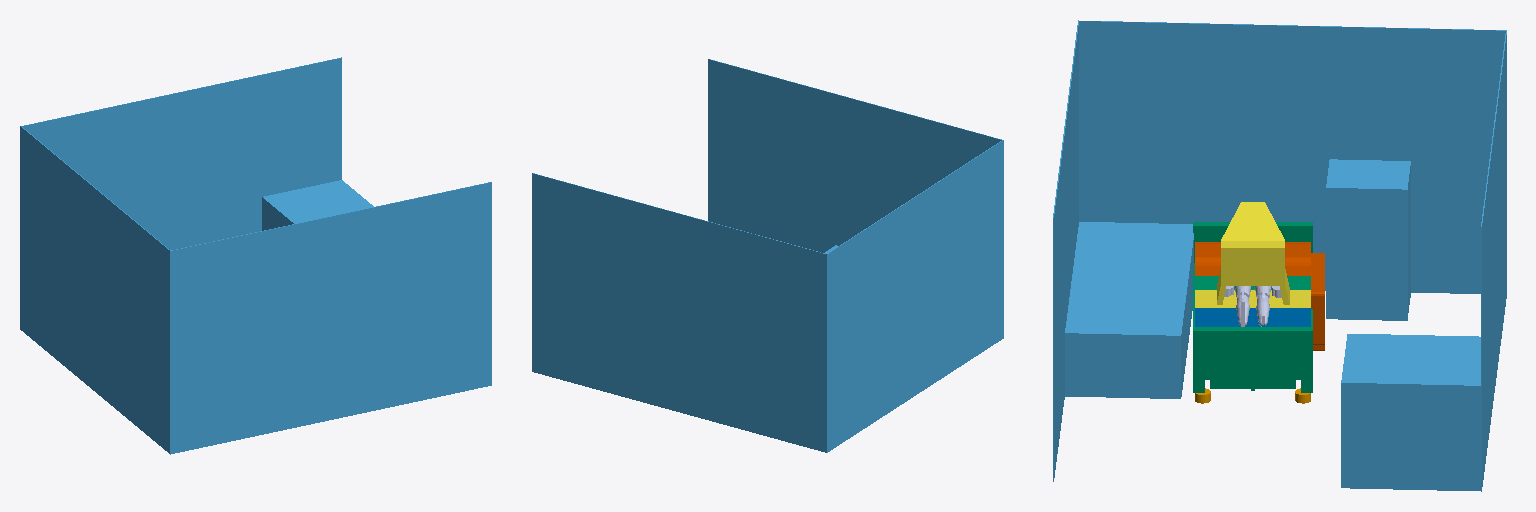
--- Render facts (derived) ---
3 views of the same robot in one strip: view 1: azimuth 30°, elevation 25°; view 2: azimuth 150°, elevation 25°; view 3: azimuth 270°, elevation 25° (orthographic).
Robot: bed_and_environment_henry_tray — 33 links, 32 joints (25 revolute, 4 prismatic, 3 fixed); root link autobed/base_link; default pose: all joints at 0.
Visible links, largest first — view 1: autobed/wall_link; view 2: autobed/wall_link; view 3: autobed/wall_link, autobed/bed_frame_link, autobed/leg_rest_upper, autobed/head_rest_link, autobed/leg_rest_lower.
Link boxes in pixels (bbox=[...]): autobed/wall_link: bbox=[20, 57, 491, 454]; autobed/wall_link: bbox=[532, 59, 1003, 452]; autobed/wall_link: bbox=[1053, 20, 1506, 491]; autobed/bed_frame_link: bbox=[1193, 222, 1312, 392]; autobed/leg_rest_upper: bbox=[1195, 202, 1310, 307]; autobed/head_rest_link: bbox=[1195, 242, 1324, 350]; autobed/leg_rest_lower: bbox=[1195, 308, 1310, 326].
Bounding box of the posed robot: 4.2 × 3.9 × 2.68 m (x, y, z).
21 mesh visuals loaded from 23 distinct referenced files (21 binary STL); not drawn: 2 (reference not matched to a file when rendering).

URDF robot description (bed_and_environment_henry_tray):
<?xml version="1.0"?>
<robot
  name="bed_and_environment_henry_tray">
  <link
   name="autobed/base_link">
    <inertial>
      <origin
        xyz="1.07 3.94840580504828E-16 0.0837923121940762"
        rpy="0 0 0" />
      <mass
        value="6.1860172808288" />
      <inertia
        ixx="1.21978721906848"
        ixy="2.22044604925031E-15"
        ixz="-1.78284289885571E-15"
        iyy="7.15036992783298"
        iyz="-7.76907347784197E-16"
        izz="8.24641740321532" />
    </inertial>
    <visual>
      <origin
        xyz="0 0 0"
        rpy="0 0 0" />
      <geometry>
        <mesh
          filename="package://hrl_base_selection/urdf/bed_and_environment_henry_tray/meshes/base_link_v2.STL" />
      </geometry>
    </visual>
    <collision>
      <origin
        xyz="0 0 0"
        rpy="0 0 0" />
      <geometry>
        <mesh
          filename="package://hrl_base_selection/urdf/bed_and_environment_henry_tray/meshes/base_link_v2.STL" />
      </geometry>
    </collision>
  </link>
    <link
   name="autobed/wall_link">
    <inertial>
      <origin
        xyz="1.85973617610096 0.322876413955559 0.506156564666783"
        rpy="0 0 0" />
      <mass
        value="3480.34879229199" />
      <inertia
        ixx="6193.4907032472"
        ixy="3253.06972401852"
        ixz="-11.5632809249146"
        iyy="7114.12294656335"
        iyz="386.100445501856"
        izz="12101.3286461396" />
    </inertial>
    <visual>
      <origin
        xyz="0 0 0"
        rpy="0 0 0" />
      <geometry>
        <mesh
          filename="package://hrl_base_selection/urdf/bed_and_environment_henry_tray/meshes/wall_link_v2.STL" />
      </geometry>
    </visual>
    <collision>
      <origin
        xyz="0 0 0"
        rpy="0 0 0" />
      <geometry>
        <mesh
          filename="package://hrl_base_selection/urdf/bed_and_environment_henry_tray/meshes/wall_link_v2.STL" />
      </geometry>
    </collision>
  </link>
  <joint
   name="autobed/origin_wall_joint"
    type="fixed">
    <origin
      xyz="-0.12155 -0.0043316 0"
      rpy="0 0 -0.053897" />
    <parent
      link="autobed/base_link" />
    <child
      link="autobed/wall_link" />
    <axis
      xyz="0 0 0" />
  </joint>
  <link
   name="autobed/bed_frame_link">
    <inertial>
      <origin
        xyz="1.20574977089702 -0.00197319632794563 0.010463658046454"
        rpy="0 0 0" />
      <mass
        value="298.525793737685" />
      <inertia
        ixx="25.3079805393988"
        ixy="0.124705215046845"
        ixz="-6.18752707469867"
        iyy="161.196265779885"
        iyz="0.0978345240222597"
        izz="178.196491872743" />
    </inertial>
    <visual>
      <origin
        xyz="0 0 0"
        rpy="0 0 0" />
      <geometry>
        <mesh
          filename="package://hrl_base_selection/urdf/bed_and_environment_henry_tray/meshes/bed_frame_link_v2.STL" />
      </geometry>
    </visual>
    <collision>
      <origin
        xyz="0 0 0"
        rpy="0 0 0" />
      <geometry>
        <mesh
          filename="package://hrl_base_selection/urdf/bed_and_environment_henry_tray/meshes/bed_frame_link_v2.STL" />
      </geometry>
    </collision>
  </link>
  <joint
   name="autobed/tele_legs_joint"
    type="prismatic">
    <origin
      xyz="-0.0400000000000005 0 0.320000000000001"
      rpy="0 0 0" />
    <parent
      link="autobed/base_link" />
    <child
      link="autobed/bed_frame_link" />
    <axis
      xyz="0 0 1" />
    <limit
      lower="-1"
      upper="1"
      effort="0"
      velocity="0" />
  </joint>
  <link
   name="autobed/leg_rest_upper">
    <inertial>
      <origin
        xyz="0.184999999999998 0.10500000000001 6.79804630482359E-16"
        rpy="0 0 0" />
      <mass
        value="71.0955000000001" />
      <inertia
        ixx="5.22152012812501"
        ixy="-3.21389401302034E-17"
        ixz="-3.22023131917487E-17"
        iyy="5.77132532812501"
        iyz="-2.87322532068486E-15"
        izz="1.072357125" />
    </inertial>
    <visual>
      <origin
        xyz="0 0 0"
        rpy="0 0 0" />
      <geometry>
        <mesh
          filename="package://hrl_base_selection/urdf/bed_and_environment_henry_tray/meshes/leg_rest_upper_v2.STL" />
      </geometry>
    </visual>
    <collision>
      <origin
        xyz="0 0 0"
        rpy="0 0 0" />
      <geometry>
        <mesh
          filename="package://hrl_base_selection/urdf/bed_and_environment_henry_tray/meshes/leg_rest_upper_v2.STL" />
      </geometry>
    </collision>
  </link>
  <joint
   name="autobed/leg_rest_upper_hinge"
    type="revolute">
    <origin
      xyz="1.075 0 0"
      rpy="1.5708 -1.8438E-16 7.6543E-16" />
    <parent
      link="autobed/bed_frame_link" />
    <child
      link="autobed/leg_rest_upper" />
    <axis
      xyz="0 0 1" />
    <limit
      lower="-2"
      upper="2"
      effort="0"
      velocity="0" />
  </joint>
  <link
   name="autobed/leg_rest_lower">
    <inertial>
      <origin
        xyz="0.325000000000004 0.104999999999987 -1.38760699713425E-16"
        rpy="0 0 0" />
      <mass
        value="124.8975" />
      <inertia
        ixx="9.172940765625"
        ixy="-4.25925024767052E-17"
        ixz="-8.25969319809873E-16"
        iyy="13.111375265625"
        iyz="2.10674154540826E-16"
        izz="4.856431125" />
    </inertial>
    <visual>
      <origin
        xyz="0 0 0"
        rpy="0 0 0" />
      <geometry>
        <mesh
          filename="package://hrl_base_selection/urdf/bed_and_environment_henry_tray/meshes/leg_rest_lower_v2.STL" />
      </geometry>
    </visual>
    <collision>
      <origin
        xyz="0 0 0"
        rpy="0 0 0" />
      <geometry>
        <mesh
          filename="package://hrl_base_selection/urdf/bed_and_environment_henry_tray/meshes/leg_rest_lower_v2.STL" />
      </geometry>
    </collision>
  </link>
  <joint
   name="autobed/leg_rest_lower_hinge"
    type="revolute">
    <origin
      xyz="0.37 0 0"
      rpy="8.4655E-16 -2.4744E-16 -1.8316E-16" />
    <parent
      link="autobed/leg_rest_upper" />
    <child
      link="autobed/leg_rest_lower" />
    <axis
      xyz="0 0 -1" />
    <limit
      lower="-2"
      upper="2"
      effort="0"
      velocity="0" />
  </joint>
  <link
   name="autobed/head_rest_link">
    <inertial>
      <origin
        xyz="0.338540021639504 -0.102807900235519 0.0331726512276706"
        rpy="0 0 0" />
      <mass
        value="158.265573279578" />
      <inertia
        ixx="13.8116841883572"
        ixy="0.366851813056848"
        ixz="-0.640983438566653"
        iyy="18.5647228773414"
        iyz="-0.857921499431992"
        izz="7.19318513198363" />
    </inertial>
    <visual>
      <origin
        xyz="0 0 0"
        rpy="0 0 0" />
      <geometry>
        <mesh
          filename="package://hrl_base_selection/urdf/bed_and_environment_henry_tray/meshes/head_rest_link_v2.STL" />
      </geometry>
    </visual>
    <collision>
      <origin
        xyz="0 0 0"
        rpy="0 0 0" />
      <geometry>
        <mesh
          filename="package://hrl_base_selection/urdf/bed_and_environment_henry_tray/meshes/head_rest_link_v2.STL" />
      </geometry>
    </collision>
  </link>
  <joint
   name="autobed/head_rest_hinge"
    type="revolute">
    <origin
      xyz="0.795 0 0.21"
      rpy="1.5708 0 -3.1416" />
    <parent
      link="autobed/bed_frame_link" />
    <child
      link="autobed/head_rest_link" />
    <axis
      xyz="0 0 1" />
    <limit
      lower="-2"
      upper="2"
      effort="0"
      velocity="0" />
  </joint>
  <link
    name="autobed/neck_rotated_to_worldframe_link">
  </link>
  <joint
    name="autobed/headrest_bed_to_worldframe_joint"
    type="revolute">
    <origin
      xyz="0.25949 0.1 0"
      rpy="0. 0. 0." />
    <!--<origin-->
      <!--xyz="0.40949 0.05 0"-->
      <!--rpy="0. 0. 0." />-->
    <parent
      link="autobed/head_rest_link" />
    <child
      link="autobed/neck_rotated_to_worldframe_link" />
    <axis
      xyz="0 0 1" />
    <limit
      lower="-2"
      upper="2"
      effort="0"
      velocity="0" />
  </joint>
  <link
    name="autobed/neck_updown_worldframe_translation_link">
  </link>
  <joint
    name="autobed/bed_neck_worldframe_updown_joint"
    type="prismatic">
    <origin
      xyz="0.0 0.0 0"
      rpy="0.0 0.0 0.0" />
    <parent
      link="autobed/neck_rotated_to_worldframe_link" />
    <child
      link="autobed/neck_updown_worldframe_translation_link" />
    <axis
      xyz="-1 0 0" />
    <limit
      lower="-2"
      upper="2"
      effort="0"
      velocity="0" />
  </joint>
  <link
    name="autobed/neck_rotated_to_bedframe_link">
  </link>
  <joint
    name="autobed/bed_neck_to_bedframe_joint"
    type="revolute">
    <origin
      xyz="0.0 0.0 0"
      rpy="0. 0. 0." />
    <parent
      link="autobed/neck_updown_worldframe_translation_link" />
    <child
      link="autobed/neck_rotated_to_bedframe_link" />
    <axis
      xyz="0 0 1" />
    <limit
      lower="-2"
      upper="2"
      effort="0"
      velocity="0" />
  </joint>
  <link
    name="autobed/neck_updown_bedframe_translation_link">
  </link>
  <joint
    name="autobed/bed_neck_base_updown_bedframe_joint"
    type="prismatic">
    <origin
      xyz="0.0 0.0 0"
      rpy="0. 0. 0." />
    <parent
      link="autobed/neck_rotated_to_bedframe_link" />
    <child
      link="autobed/neck_updown_bedframe_translation_link" />
    <axis
      xyz="-1 0 0" />
    <limit
      lower="-2"
      upper="2"
      effort="0"
      velocity="0" />
  </joint>
  <link
    name="autobed/neck_base_link">
  </link>
  <joint
    name="autobed/bed_neck_base_leftright_joint"
    type="prismatic">
    <origin
      xyz="0 0 0"
      rpy="0 3.14159 0" />
    <parent
      link="autobed/neck_updown_bedframe_translation_link" />
    <child
      link="autobed/neck_base_link" />
    <axis
      xyz="0 0 -1" />
    <limit
      lower="-2"
      upper="2"
      effort="0"
      velocity="0" />
  </joint>
  <link
    name="autobed/neck_twist_link">
  </link>
  <joint
    name="autobed/neck_twist_joint"
    type="revolute">
    <origin
      xyz="0.0 0.0 0"
      rpy="0. 0. 0." />
    <parent
      link="autobed/neck_base_link" />
    <child
      link="autobed/neck_twist_link" />
    <axis
      xyz="1 0 0" />
    <limit
      lower="-2"
      upper="2"
      effort="0"
      velocity="0" />
  </joint>
  <link
    name="autobed/neck_tilt_link">
  </link>
  <joint
    name="autobed/neck_tilt_joint"
    type="revolute">
    <origin
      xyz="0.0 0.0 0"
      rpy="0. 0. 0." />
    <parent
      link="autobed/neck_twist_link" />
    <child
      link="autobed/neck_tilt_link" />
    <axis
      xyz="0 0 -1" />
    <limit
      lower="-2"
      upper="2"
      effort="0"
      velocity="0" />
  </joint>
  <link
    name="autobed/neck_link">
    <visual>
      <origin
        xyz="0 0 0"
        rpy="0 0 0" />
      <geometry>
        <mesh
          filename="package://hrl_base_selection/urdf/bed_and_environment_henry_tray/meshes/neck_link.STL" />
      </geometry>
      <material
        name="">
        <color
          rgba="0.792156862745098 0.819607843137255 0.933333333333333 1" />
      </material>
    </visual>
    <collision>
      <origin
        xyz="0 0 0"
        rpy="0 0 0" />
      <geometry>
        <mesh
          filename="package://hrl_base_selection/urdf/bed_and_environment_henry_tray/meshes/neck_link.STL" />
      </geometry>
    </collision>
  </link>
  <joint
    name="autobed/neck_to_neck_top_joint"
    type="fixed">
    <origin
      xyz="-0.07239 0 0"
      rpy="0 0 0" />
    <parent
      link="autobed/neck_tilt_link" />
    <child
      link="autobed/neck_link" />
  </joint>
  <link
    name="autobed/neck_top_rotated_link">
  </link>
  <joint
    name="autobed/neck_rotation_fixed_joint"
    type="fixed">
    <origin
      xyz="0 0 0"
      rpy="-1.570796 0 1.570796" />
    <parent
      link="autobed/neck_link" />
    <child
      link="autobed/neck_top_rotated_link" />
    <axis
      xyz="0 0 1" />
    <limit
      lower="-2"
      upper="2"
      effort="0"
      velocity="0" />
  </joint>
  <link
    name="autobed/head_roty_link">
  </link>
  <joint
    name="autobed/neck_head_roty_joint"
    type="revolute">
    <origin
      xyz="0.0154 0 0.07779"
      rpy="0 0 0" />
    <parent
      link="autobed/neck_top_rotated_link" />
    <child
      link="autobed/head_roty_link" />
    <axis
      xyz="0 1 0" />
    <limit
      lower="-2"
      upper="2"
      effort="0"
      velocity="0" />
  </joint>
  <link
    name="autobed/head_rotz_link">
  </link>
  <joint
    name="autobed/neck_head_rotz_joint"
    type="revolute">
    <origin
      xyz="0 0 0"
      rpy="0 0 0" />
    <parent
      link="autobed/head_roty_link" />
    <child
      link="autobed/head_rotz_link" />
    <axis
      xyz="0 0 1" />
    <limit
      lower="-2"
      upper="2"
      effort="0"
      velocity="0" />
  </joint>

  <link
    name="autobed/head_link">
    <visual>
      <origin
        xyz="0 0 0"
        rpy="0 0 0" />
      <geometry>
        <mesh
          filename="package://hrl_base_selection/urdf/bed_and_environment_henry_tray/meshes/head_link.STL" />
      </geometry>
      <material
        name="">
        <color
          rgba="0.792156862745098 0.819607843137255 0.933333333333333 1" />
      </material>
    </visual>
    <collision>
      <origin
        xyz="0 0 0"
        rpy="0 0 0" />
      <geometry>
        <mesh
          filename="package://hrl_base_selection/urdf/bed_and_environment_henry_tray/meshes/head_link.STL" />
      </geometry>
    </collision>
  </link>
  <joint
    name="autobed/neck_head_rotx_joint"
    type="revolute">
    <origin
      xyz="0 0 0"
      rpy="0 0 0" />
    <parent
      link="autobed/head_rotz_link" />
    <child
      link="autobed/head_link" />
    <axis
      xyz="1 0 0" />
    <limit
      lower="-2"
      upper="2"
      effort="0"
      velocity="0" />
  </joint>
  <link
    name="autobed/upper_body_link">
    <visual>
      <origin
        xyz="0 0 0"
        rpy="0 0 0" />
      <geometry>
        <mesh
          filename="package://hrl_base_selection/urdf/bed_and_environment_henry_tray/meshes/upper_body_link.STL" />
      </geometry>
      <material
        name="">
        <color
          rgba="0.792156862745098 0.819607843137255 0.933333333333333 1" />
      </material>
    </visual>
    <collision>
      <origin
        xyz="0 0 0"
        rpy="0 0 0" />
      <geometry>
        <mesh
          filename="package://hrl_base_selection/urdf/bed_and_environment_henry_tray/meshes/upper_body_link.STL" />
      </geometry>
    </collision>
  </link>
  <joint
    name="autobed/neck_body_joint"
    type="revolute">
    <origin
      xyz="0.00 0 0"
      rpy="0 0 0" />
    <parent
      link="autobed/neck_base_link" />
    <child
      link="autobed/upper_body_link" />
    <axis
      xyz="0 0 -1" />
    <limit
      lower="-2"
      upper="2"
      effort="0"
      velocity="0" />
  </joint>
  <link
    name="autobed/mid_body_link">
    <visual>
      <origin
        xyz="0 0 0"
        rpy="0 0 0" />
      <geometry>
        <mesh
          filename="package://hrl_base_selection/urdf/bed_and_environment_henry_tray/meshes/mid_body_link.STL" />
      </geometry>
      <material
        name="">
        <color
          rgba="0.792156862745098 0.819607843137255 0.933333333333333 1" />
      </material>
    </visual>
    <collision>
      <origin
        xyz="0 0 0"
        rpy="0 0 0" />
      <geometry>
        <mesh
          filename="package://hrl_base_selection/urdf/bed_and_environment_henry_tray/meshes/mid_body_link.STL" />
      </geometry>
    </collision>
  </link>
  <joint
    name="autobed/upper_mid_body_joint"
    type="revolute">
    <origin
      xyz="0.35052 0 0"
      rpy="0 0 0" />
    <parent
      link="autobed/upper_body_link" />
    <child
      link="autobed/mid_body_link" />
    <axis
      xyz="0 0 1" />
    <limit
      lower="-2"
      upper="2"
      effort="0"
      velocity="0" />
  </joint>
  <link
    name="autobed/lower_body_link">
    <visual>
      <origin
        xyz="0 0 0"
        rpy="0 0 0" />
      <geometry>
        <mesh
          filename="package://hrl_base_selection/urdf/bed_and_environment_henry_tray/meshes/lower_body_link.STL" />
      </geometry>
      <material
        name="">
        <color
          rgba="0.792156862745098 0.819607843137255 0.933333333333333 1" />
      </material>
    </visual>
    <collision>
      <origin
        xyz="0 0 0"
        rpy="0 0 0" />
      <geometry>
        <mesh
          filename="package://hrl_base_selection/urdf/bed_and_environment_henry_tray/meshes/lower_body_link.STL" />
      </geometry>
    </collision>
  </link>
  <joint
    name="autobed/mid_lower_body_joint"
    type="revolute">
    <origin
      xyz="0.15113 0 0"
      rpy="0 0 0" />
    <parent
      link="autobed/mid_body_link" />
    <child
      link="autobed/lower_body_link" />
    <axis
      xyz="0 0 1" />
    <limit
      lower="-2"
      upper="2"
      effort="0"
      velocity="0" />
  </joint>
  <link
    name="autobed/quad_left_link">
    <visual>
      <origin
        xyz="0 0 0"
        rpy="0 0 0" />
      <geometry>
        <mesh
          filename="package://hrl_base_selection/urdf/bed_and_environment_henry_tray/meshes/quad_left_link.STL" />
      </geometry>
      <material
        name="">
        <color
          rgba="0.792156862745098 0.819607843137255 0.933333333333333 1" />
      </material>
    </visual>
    <collision>
      <origin
        xyz="0 0 0"
        rpy="0 0 0" />
      <geometry>
        <mesh
          filename="package://hrl_base_selection/urdf/bed_and_environment_henry_tray/meshes/quad_left_link.STL" />
      </geometry>
    </collision>
  </link>
  <joint
    name="autobed/body_quad_left_joint"
    type="revolute">
    <origin
      xyz="0.05207 0 -0.08636"
      rpy="0 0 -.25" />
    <parent
      link="autobed/lower_body_link" />
    <child
      link="autobed/quad_left_link" />
    <axis
      xyz="0 0 1" />
    <limit
      lower="-3."
      upper="3."
      effort="0"
      velocity="0" />
  </joint>
  <link
    name="autobed/calf_left_link">
    <visual>
      <origin
        xyz="0 0 0"
        rpy="0 0 0" />
      <geometry>
        <mesh
          filename="package://hrl_base_selection/urdf/bed_and_environment_henry_tray/meshes/calf_left_link.STL" />
      </geometry>
      <material
        name="">
        <color
          rgba="0.792156862745098 0.819607843137255 0.933333333333333 1" />
      </material>
    </visual>
    <collision>
      <origin
        xyz="0 0 0"
        rpy="0 0 0" />
      <geometry>
        <mesh
          filename="package://hrl_base_selection/urdf/bed_and_environment_henry_tray/meshes/calf_left_link.STL" />
      </geometry>
    </collision>
  </link>
  <joint
    name="autobed/quad_calf_left_joint"
    type="revolute">
    <origin
      xyz="0.41218 0.11044 0"
      rpy="3.14159 0 3.43" />
    <parent
      link="autobed/quad_left_link" />
    <child
      link="autobed/calf_left_link" />
    <axis
      xyz="0 0 1" />
    <limit
      lower="-3."
      upper="3."
      effort="0"
      velocity="0" />
  </joint>
  <link
    name="autobed/foot_left_link">
    <visual>
      <origin
        xyz="0 0 0"
        rpy="0 0 0" />
      <geometry>
        <mesh
          filename="package://hrl_base_selection/urdf/bed_and_environment_henry_tray/meshes/foot_left_link.STL" />
      </geometry>
      <material
        name="">
        <color
          rgba="0.792156862745098 0.819607843137255 0.933333333333333 1" />
      </material>
    </visual>
    <collision>
      <origin
        xyz="0 0 0"
        rpy="0 0 0" />
      <geometry>
        <mesh
          filename="package://hrl_base_selection/urdf/bed_and_environment_henry_tray/meshes/foot_left_link.STL" />
      </geometry>
    </collision>
  </link>
  <joint
    name="autobed/calf_foot_left_joint"
    type="revolute">
    <origin
      xyz="-0.41279 -0.03188 0"
      rpy="0 0 0.09" />
    <parent
      link="autobed/calf_left_link" />
    <child
      link="autobed/foot_left_link" />
    <axis
      xyz="0 0 1" />
    <limit
      lower="-3."
      upper="3."
      effort="0"
      velocity="0" />
  </joint>
  <link
    name="autobed/quad_right_link">
    <visual>
      <origin
        xyz="0 0 0"
        rpy="0 0 0" />
      <geometry>
        <mesh
          filename="package://hrl_base_selection/urdf/bed_and_environment_henry_tray/meshes/quad_right_link.STL" />
      </geometry>
      <material
        name="">
        <color
          rgba="0.792156862745098 0.819607843137255 0.933333333333333 1" />
      </material>
    </visual>
    <collision>
      <origin
        xyz="0 0 0"
        rpy="0 0 0" />
      <geometry>
        <mesh
          filename="package://hrl_base_selection/urdf/bed_and_environment_henry_tray/meshes/quad_right_link.STL" />
      </geometry>
    </collision>
  </link>
  <joint
    name="autobed/body_quad_right_joint"
    type="revolute">
    <origin
      xyz="0.05207 0 0.08636"
      rpy="0 0 -.25" />
    <parent
      link="autobed/lower_body_link" />
    <child
      link="autobed/quad_right_link" />
    <axis
      xyz="0 0 1" />
    <limit
      lower="-3"
      upper="3"
      effort="0"
      velocity="0" />
  </joint>
  <link
    name="autobed/calf_right_link">
    <visual>
      <origin
        xyz="0 0 0"
        rpy="0 0 0" />
      <geometry>
        <mesh
          filename="package://hrl_base_selection/urdf/bed_and_environment_henry_tray/meshes/calf_right_link.STL" />
      </geometry>
      <material
        name="">
        <color
          rgba="0.792156862745098 0.819607843137255 0.933333333333333 1" />
      </material>
    </visual>
    <collision>
      <origin
        xyz="0 0 0"
        rpy="0 0 0" />
      <geometry>
        <mesh
          filename="package://hrl_base_selection/urdf/bed_and_environment_henry_tray/meshes/calf_right_link.STL" />
      </geometry>
    </collision>
  </link>
  <joint
    name="autobed/quad_calf_right_joint"
    type="revolute">
    <origin
      xyz="0.41218 0.11044 0"
      rpy="3.14159 0 3.43" />
    <parent
      link="autobed/quad_right_link" />
    <child
      link="autobed/calf_right_link" />
    <axis
      xyz="0 0 1" />
    <limit
      lower="-3"
      upper="3"
      effort="0"
      velocity="0" />
  </joint>
  <link
    name="autobed/foot_right_link">
    <visual>
      <origin
        xyz="0 0 0"
        rpy="0 0 0" />
      <geometry>
        <mesh
          filename="package://hrl_base_selection/urdf/bed_and_environment_henry_tray/meshes/foot_right_link.STL" />
      </geometry>
      <material
        name="">
        <color
          rgba="0.792156862745098 0.819607843137255 0.933333333333333 1" />
      </material>
    </visual>
    <collision>
      <origin
        xyz="0 0 0"
        rpy="0 0 0" />
      <geometry>
        <mesh
          filename="package://hrl_base_selection/urdf/bed_and_environment_henry_tray/meshes/foot_right_link.STL" />
      </geometry>
    </collision>
  </link>
  <joint
    name="autobed/calf_foot_right_joint"
    type="revolute">
    <origin
      xyz="-0.41279 -0.03188 0"
      rpy="0 0 0.09" />
    <parent
      link="autobed/calf_right_link" />
    <child
      link="autobed/foot_right_link" />
    <axis
      xyz="0 0 1" />
    <limit
      lower="-3"
      upper="3"
      effort="0"
      velocity="0" />
  </joint>
  <link
    name="autobed/arm_left_link">
    <visual>
      <origin
        xyz="0 0 0"
        rpy="0 0 0" />
      <geometry>
        <mesh
          filename="package://hrl_base_selection/urdf/bed_and_environment_henry_tray/meshes/arm_left_link.STL" />
      </geometry>
      <material
        name="">
        <color
          rgba="0.792156862745098 0.819607843137255 0.933333333333333 1" />
      </material>
    </visual>
    <collision>
      <origin
        xyz="0 0 0"
        rpy="0 0 0" />
      <geometry>
        <mesh
          filename="package://hrl_base_selection/urdf/bed_and_environment_henry_tray/meshes/arm_left_link.STL" />
      </geometry>
    </collision>
  </link>
  <joint
    name="autobed/body_arm_left_joint"
    type="revolute">
    <origin
      xyz="0.09652 0 -0.17526"
      rpy="0 0 0" />
    <parent
      link="autobed/upper_body_link" />
    <child
      link="autobed/arm_left_link" />
    <axis
      xyz="0 0 1" />
    <limit
      lower="-3"
      upper="3"
      effort="0"
      velocity="0" />
  </joint>
  <link
    name="autobed/forearm_left_link">
    <visual>
      <origin
        xyz="0 0 0"
        rpy="0 0 0" />
      <geometry>
        <mesh
          filename="package://hrl_base_selection/urdf/bed_and_environment_henry_tray/meshes/forearm_left_link.STL" />
      </geometry>
      <material
        name="">
        <color
          rgba="0.792156862745098 0.819607843137255 0.933333333333333 1" />
      </material>
    </visual>
    <collision>
      <origin
        xyz="0 0 0"
        rpy="0 0 0" />
      <geometry>
        <mesh
          filename="package://hrl_base_selection/urdf/bed_and_environment_henry_tray/meshes/forearm_left_link.STL" />
      </geometry>
    </collision>
  </link>
  <joint
    name="autobed/arm_forearm_left_joint"
    type="revolute">
    <origin
      xyz="0.28174 -0.0106 -0.04953"
      rpy="0 0 0" />
    <parent
      link="autobed/arm_left_link" />
    <child
      link="autobed/forearm_left_link" />
    <axis
      xyz="0 0 1" />
    <limit
      lower="-3"
      upper="3"
      effort="0"
      velocity="0" />
  </joint>
  <link
    name="autobed/hand_left_link">
    <visual>
      <origin
        xyz="0 0 0"
        rpy="0 0 0" />
      <geometry>
        <mesh
          filename="package://hrl_base_selection/urdf/bed_and_environment_henry_tray/meshes/hand_left_link.STL" />
      </geometry>
      <material
        name="">
        <color
          rgba="0.792156862745098 0.819607843137255 0.933333333333333 1" />
      </material>
    </visual>
    <collision>
      <origin
        xyz="0 0 0"
        rpy="0 0 0" />
      <geometry>
        <mesh
          filename="package://hrl_base_selection/urdf/bed_and_environment_henry_tray/meshes/hand_left_link.STL" />
      </geometry>
    </collision>
  </link>
  <joint
    name="autobed/forearm_hand_left_joint"
    type="revolute">
    <origin
      xyz="0.25146 0 0"
      rpy="0 0 0" />
    <parent
      link="autobed/forearm_left_link" />
    <child
      link="autobed/hand_left_link" />
    <axis
      xyz="0 0 1" />
    <limit
      lower="-3"
      upper="3"
      effort="0"
      velocity="0" />
  </joint>
  <link
    name="autobed/arm_right_link">
    <visual>
      <origin
        xyz="0 0 0"
        rpy="0 0 0" />
      <geometry>
        <mesh
          filename="package://hrl_base_selection/urdf/bed_and_environment_henry_tray/meshes/arm_right_link.STL" />
      </geometry>
      <material
        name="">
        <color
          rgba="0.792156862745098 0.819607843137255 0.933333333333333 1" />
      </material>
    </visual>
    <collision>
      <origin
        xyz="0 0 0"
        rpy="0 0 0" />
      <geometry>
        <mesh
          filename="package://hrl_base_selection/urdf/bed_and_environment_henry_tray/meshes/arm_right_link.STL" />
      </geometry>
    </collision>
  </link>
  <joint
    name="autobed/body_arm_right_joint"
    type="revolute">
    <origin
      xyz="0.09652 0 0.17526"
      rpy="0 0 0" />
    <parent
      link="autobed/upper_body_link" />
    <child
      link="autobed/arm_right_link" />
    <axis
      xyz="0 0 1" />
    <limit
      lower="-3"
      upper="3"
      effort="0"
      velocity="0" />
  </joint>
  <link
    name="autobed/forearm_right_link">
    <visual>
      <origin
        xyz="0 0 0"
        rpy="0 0 0" />
      <geometry>
        <mesh
          filename="package://hrl_base_selection/urdf/bed_and_environment_henry_tray/meshes/forearm_right_link.STL" />
      </geometry>
      <material
        name="">
        <color
          rgba="0.792156862745098 0.819607843137255 0.933333333333333 1" />
      </material>
    </visual>
    <collision>
      <origin
        xyz="0 0 0"
        rpy="0 0 0" />
      <geometry>
        <mesh
          filename="package://hrl_base_selection/urdf/bed_and_environment_henry_tray/meshes/forearm_right_link.STL" />
      </geometry>
    </collision>
  </link>
  <joint
    name="autobed/arm_forearm_right_joint"
    type="revolute">
    <origin
      xyz="0.28194 0 0.04953"
      rpy="0 0 0" />
    <parent
      link="autobed/arm_right_link" />
    <child
      link="autobed/forearm_right_link" />
    <axis
      xyz="0 0 1" />
    <limit
      lower="-3"
      upper="3"
      effort="0"
      velocity="0" />
  </joint>
  <link
    name="autobed/hand_right_link">
    <visual>
      <origin
        xyz="0 0 0"
        rpy="0 0 0" />
      <geometry>
        <mesh
          filename="package://hrl_base_selection/urdf/bed_and_environment_henry_tray/meshes/hand_right_link.STL" />
      </geometry>
      <material
        name="">
        <color
          rgba="0.792156862745098 0.819607843137255 0.933333333333333 1" />
      </material>
    </visual>
    <collision>
      <origin
        xyz="0 0 0"
        rpy="0 0 0" />
      <geometry>
        <mesh
          filename="package://hrl_base_selection/urdf/bed_and_environment_henry_tray/meshes/hand_right_link.STL" />
      </geometry>
    </collision>
  </link>
  <joint
    name="autobed/forearm_hand_right_joint"
    type="revolute">
    <origin
      xyz="0.25146 0 0"
      rpy="0 0 0" />
    <parent
      link="autobed/forearm_right_link" />
    <child
      link="autobed/hand_right_link" />
    <axis
      xyz="0 0 1" />
    <limit
      lower="-3"
      upper="3"
      effort="0"
      velocity="0" />
  </joint>

</robot>
